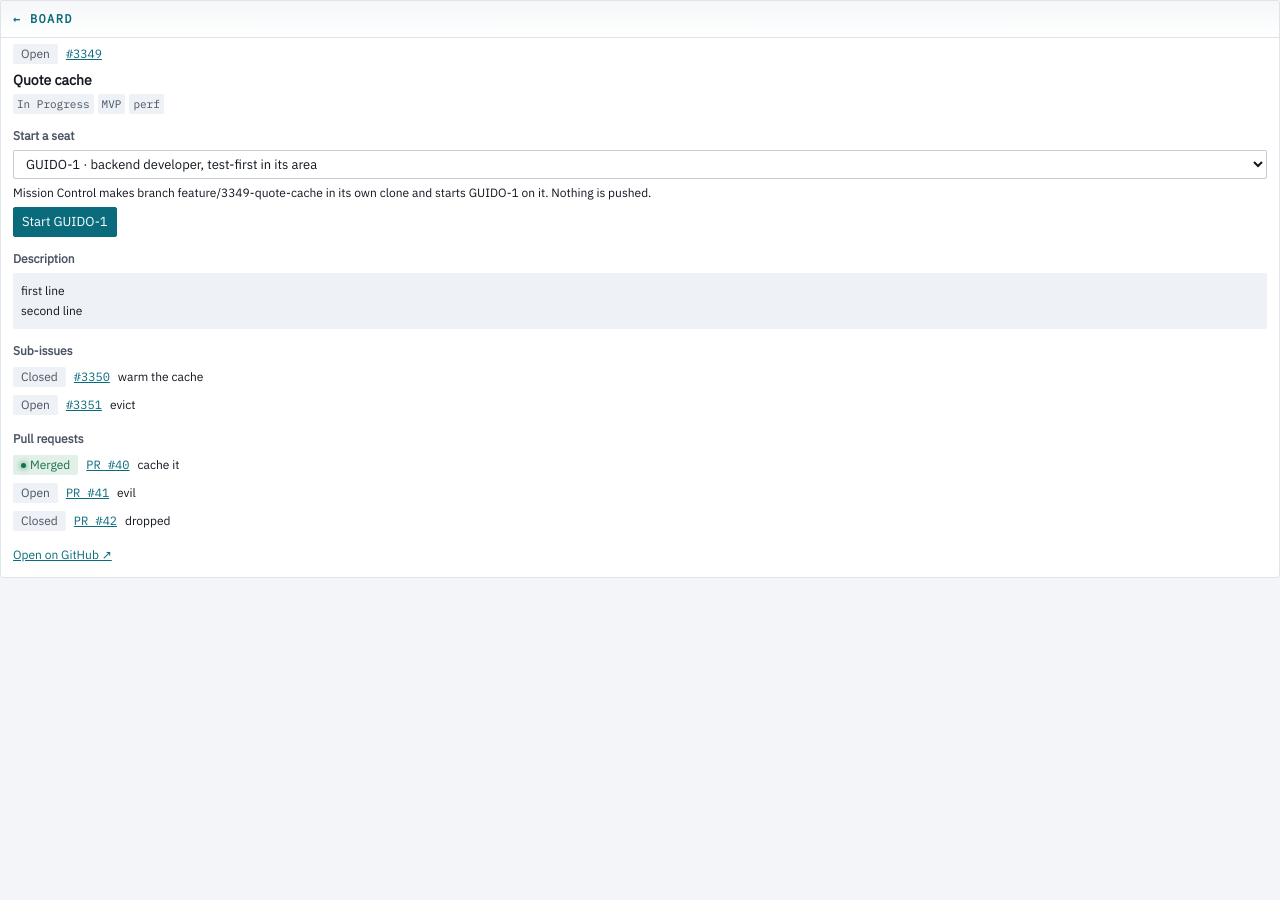
Test: Start a seat › lists the free seats and says what the click does, then starts and goes to the Agent page
This screenshot has width=1280, height=900.
What coordinates should you click on to do the following:
click the button "Start GUIDO-1"
I would click on:
 (65, 222)
Its box is [13,207,117,237].
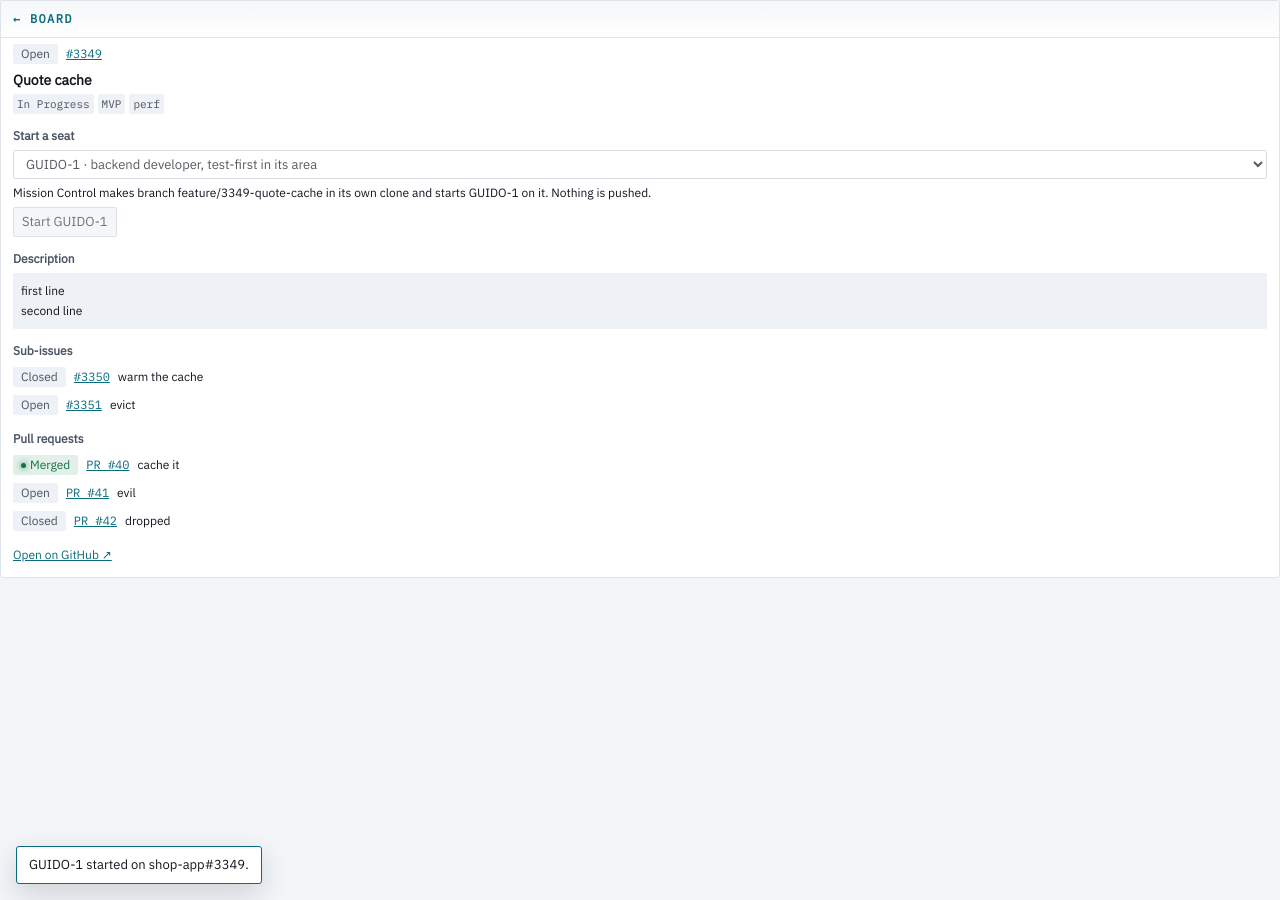
Expected: the message reads "GUIDO-1 started on shop-app#3349.", [29,856,249,873]
